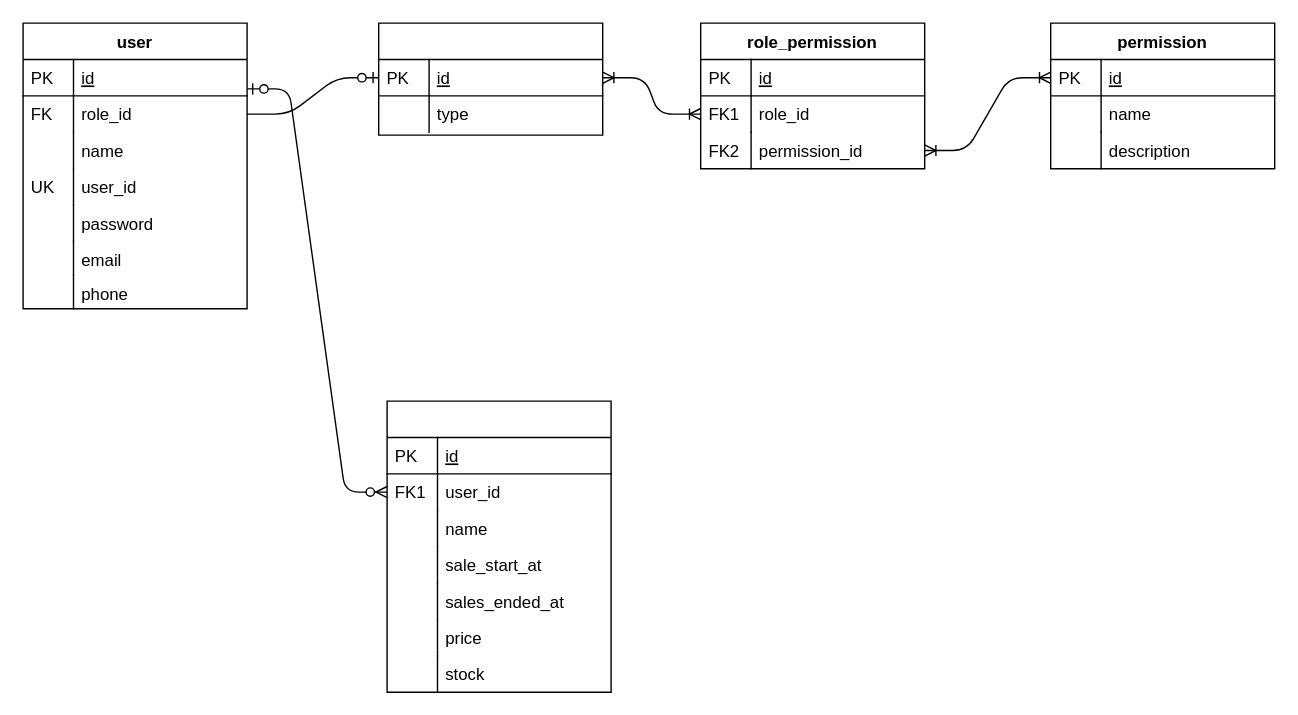
The diagram is 1298 pixels wide and 715 high, and some of its shapes have lost their labels. The shapes that lost their labels are listed below. From the top down, each one's box as (x1, y1, x2, y2) in pixels, then its label:
(377, 22, 603, 135): role
(386, 400, 611, 692): product
